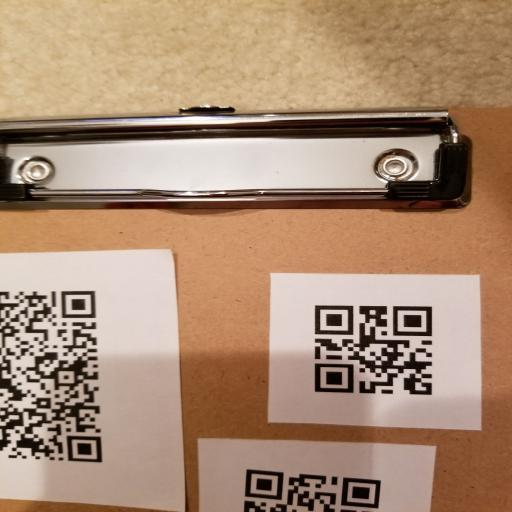qr_code: (0, 291, 104, 463), (314, 305, 432, 396), (243, 468, 382, 512)
